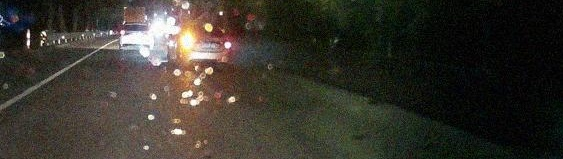L_light: (183, 39, 196, 46), (120, 31, 129, 35)
R_light: (216, 41, 230, 48), (143, 31, 152, 35)
T_light: (199, 27, 208, 31), (132, 25, 138, 27)
night-left: (181, 25, 231, 70)
night-no: (119, 22, 154, 50)
